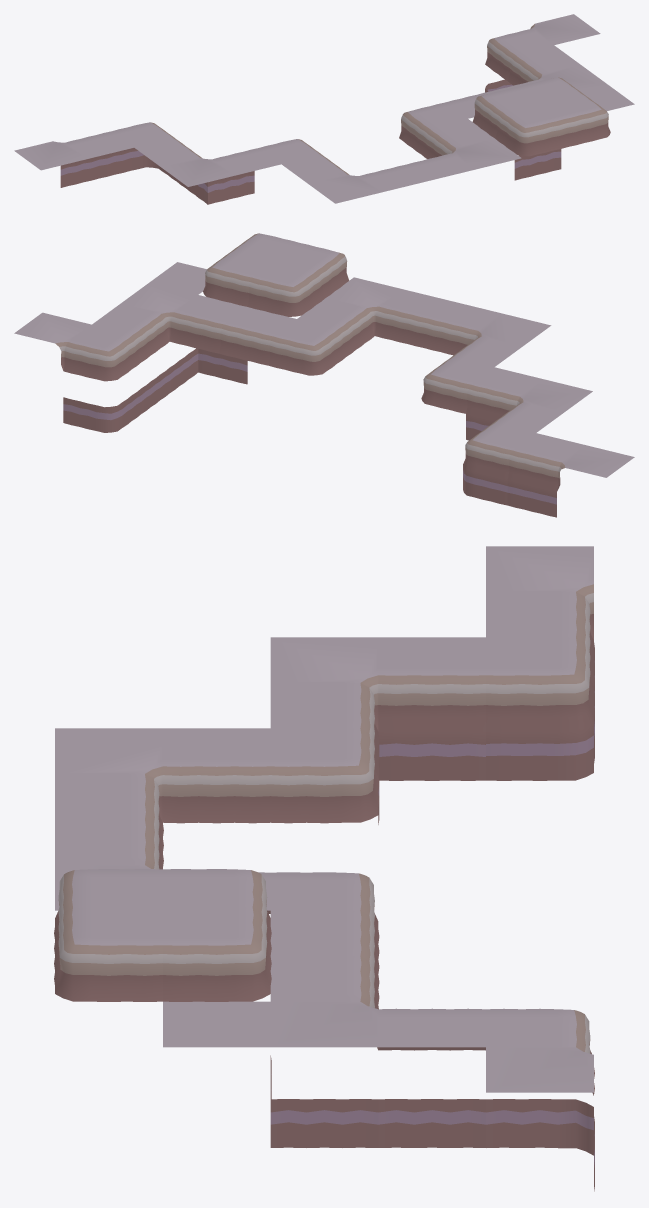
The model's file is NightSandBlocks.glb.
The picture shows the model from 3 angles, top to bottom: view 1: azimuth 30°, elevation 25°; view 2: azimuth 150°, elevation 25°; view 3: azimuth 270°, elevation 25°; orthographic projection. The views are drawn at different scales.
Parts seen in each view (by area): view 1: U-Shaped Sand, Sand Island, Long Inner Edge Sand Block, Inner Edge Sand Block, Long Edge Sand Block, Long Outer Edge Sand Block, Outer Edge Sand Block, Isolated Sand Block, Long Isolated Sand Block, Under Inner Edge Sand Block, Flat Sand Block, Edge Sand Block; view 2: U-Shaped Sand, Sand Island, Inner Edge Sand Block, Long Inner Edge Sand Block, Long Edge Sand Block, Long Outer Edge Sand Block, Outer Edge Sand Block, Edge Sand Block, Under Outer Edge Sand Block, Under Inner Edge Sand Block, Isolated Sand Block, Long Isolated Sand Block (+2 smaller); view 3: U-Shaped Sand, Sand Island, Long Inner Edge Sand Block, Long Outer Edge Sand Block, Inner Edge Sand Block, Under Inner Edge Sand Block, Under Outer Edge Sand Block, Under Edge Sand Block, Long Isolated Sand Block, Long Edge Sand Block, Edge Sand Block, Flat Sand Block (+2 smaller).
Part boxes in pixels (left/top/right/bottom): U-Shaped Sand: left=259, top=102, right=521, bottom=203; Sand Island: left=472, top=77, right=610, bottom=156; Long Inner Edge Sand Block: left=134, top=138, right=280, bottom=204; Inner Edge Sand Block: left=493, top=45, right=607, bottom=91; Long Edge Sand Block: left=60, top=131, right=133, bottom=187; Long Outer Edge Sand Block: left=107, top=122, right=180, bottom=184; Outer Edge Sand Block: left=485, top=29, right=553, bottom=80; Isolated Sand Block: left=530, top=14, right=600, bottom=44; Long Isolated Sand Block: left=14, top=141, right=86, bottom=170; Under Inner Edge Sand Block: left=514, top=149, right=561, bottom=180; Flat Sand Block: left=580, top=84, right=634, bottom=110; Edge Sand Block: left=446, top=91, right=493, bottom=118; U-Shaped Sand: left=268, top=277, right=551, bottom=413; Sand Island: left=203, top=233, right=349, bottom=316; Inner Edge Sand Block: left=92, top=283, right=246, bottom=362; Long Inner Edge Sand Block: left=466, top=367, right=592, bottom=440; Long Edge Sand Block: left=507, top=433, right=585, bottom=517; Long Outer Edge Sand Block: left=463, top=423, right=535, bottom=505; Outer Edge Sand Block: left=63, top=324, right=140, bottom=381; Edge Sand Block: left=219, top=307, right=296, bottom=365; Under Outer Edge Sand Block: left=63, top=388, right=141, bottom=432; Under Inner Edge Sand Block: left=169, top=348, right=247, bottom=392; Isolated Sand Block: left=14, top=312, right=91, bottom=370; Long Isolated Sand Block: left=557, top=445, right=634, bottom=490; U-Shaped Sand: left=55, top=728, right=379, bottom=958; Sand Island: left=54, top=869, right=271, bottom=1001; Long Inner Edge Sand Block: left=270, top=637, right=485, bottom=824; Long Outer Edge Sand Block: left=486, top=637, right=594, bottom=780; Inner Edge Sand Block: left=270, top=956, right=485, bottom=1050; Under Inner Edge Sand Block: left=270, top=1055, right=378, bottom=1147; Under Outer Edge Sand Block: left=486, top=1099, right=594, bottom=1191; Under Edge Sand Block: left=378, top=1099, right=485, bottom=1147; Long Isolated Sand Block: left=486, top=546, right=593, bottom=640; Long Edge Sand Block: left=486, top=591, right=594, bottom=692; Edge Sand Block: left=270, top=910, right=379, bottom=1003; Flat Sand Block: left=163, top=1001, right=270, bottom=1047.
Bounding box in the file's own units: 24 × 4 × 10.04.
1 material, 1 textured.
